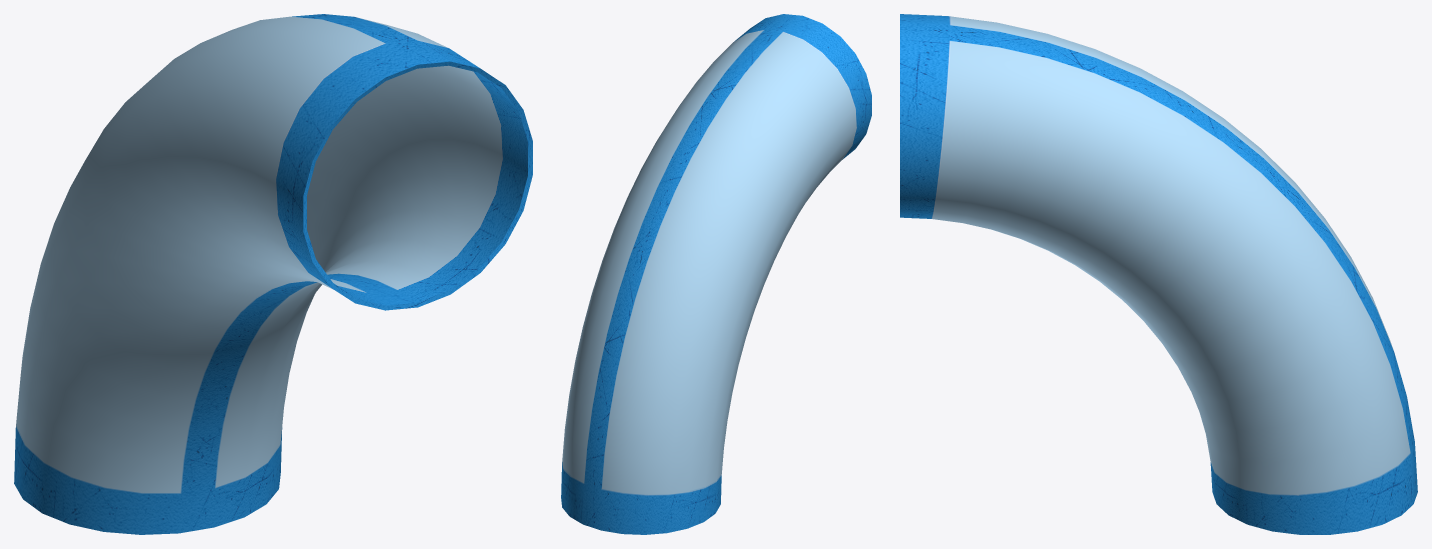
The model's file is FUT0110022.fbx.
The picture shows the model from 3 angles, left to right: view 1: azimuth 30°, elevation 25°; view 2: azimuth 150°, elevation 25°; view 3: azimuth 270°, elevation 25°; orthographic projection. The views are drawn at different scales.
Parts seen in each view (by area): view 1: smFUT0110022; view 2: smFUT0110022; view 3: smFUT0110022.
Part boxes in pixels (left/top/right/bottom): smFUT0110022: left=14, top=14, right=532, bottom=534; smFUT0110022: left=561, top=14, right=871, bottom=534; smFUT0110022: left=900, top=14, right=1417, bottom=534.
Bounding box in the file's own units: 212 × 540 × 540.
Materials: 1 (1 with a texture image).
